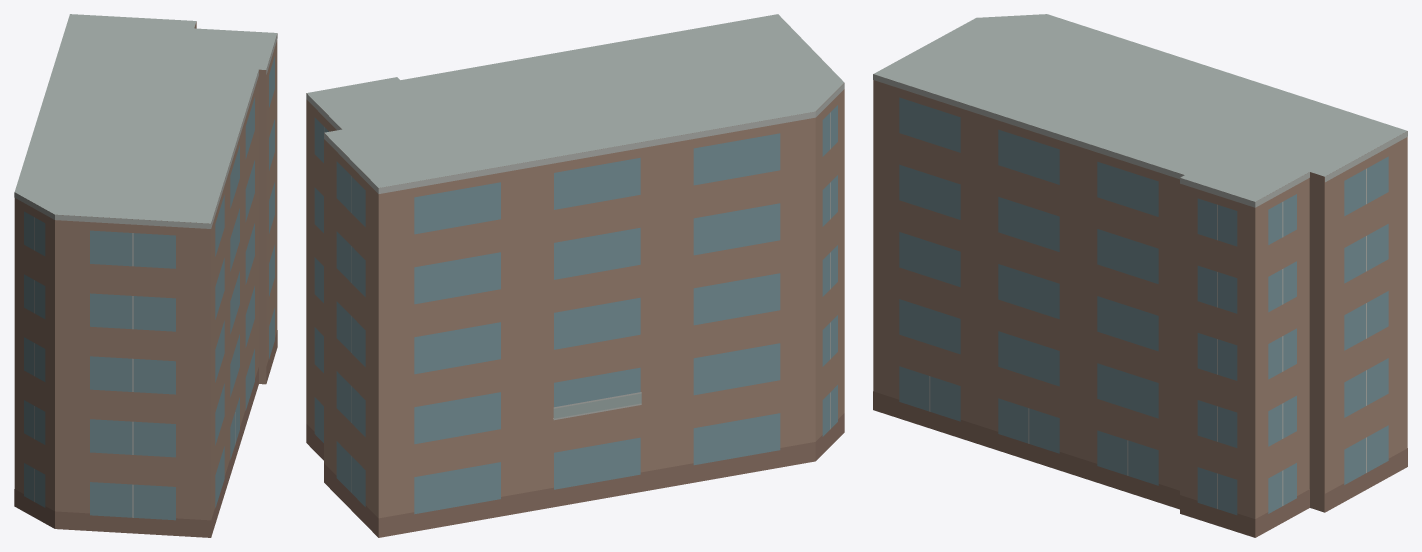
File: survey-upis-32928498.glb
The picture shows the model from 3 angles, left to right: view 1: azimuth 30°, elevation 25°; view 2: azimuth 150°, elevation 25°; view 3: azimuth 270°, elevation 25°; orthographic projection. The views are drawn at different scales.
Parts seen in each view (by area): view 1: survey-upis-32928498.tmp; view 2: survey-upis-32928498.tmp; view 3: survey-upis-32928498.tmp.
Boxes of the visible parts, box(x1,y1,x2,y2) form: survey-upis-32928498.tmp: box(14, 14, 277, 537); survey-upis-32928498.tmp: box(306, 14, 844, 537); survey-upis-32928498.tmp: box(873, 14, 1407, 537).
Size of the model in its own units: 16.8 by 14 by 20.19.
